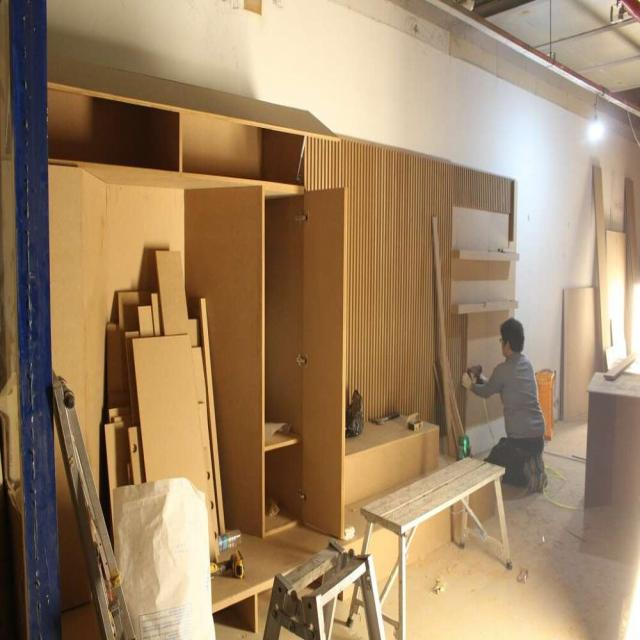board: (132, 334, 218, 563), (562, 285, 602, 423), (104, 418, 136, 537), (155, 250, 190, 336)
wood: (198, 297, 226, 536)
